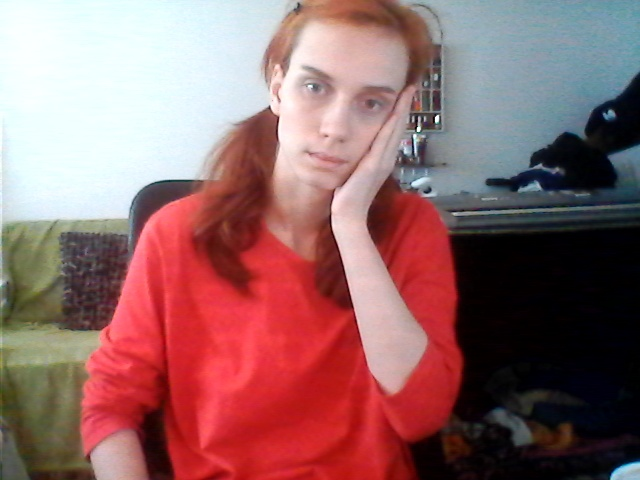lezat: (327, 84, 424, 264)
